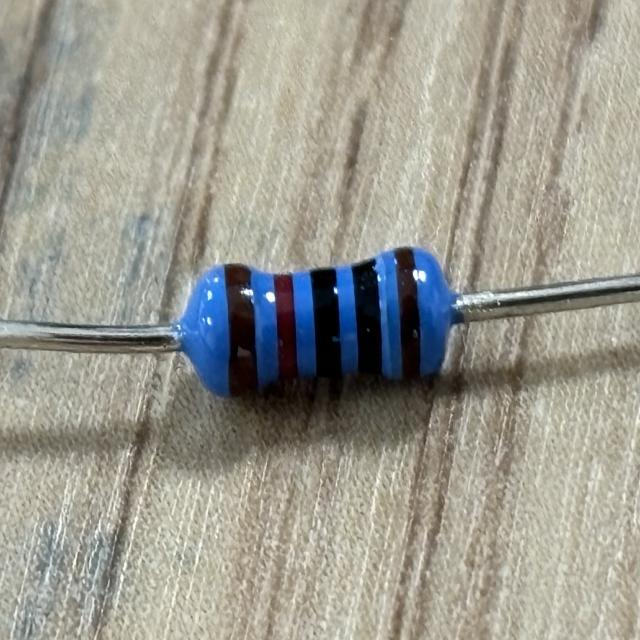resistor: (209, 243, 452, 400)
